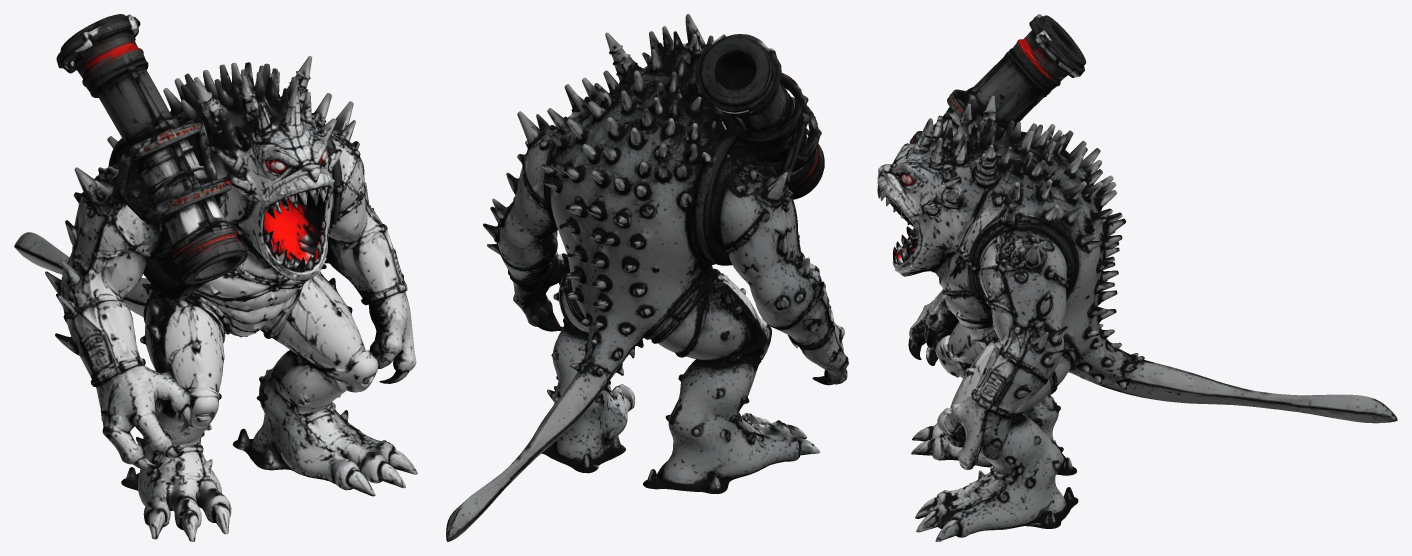
The model's file is lizard-boss.glb.
3 views of the same model, side by side, from view 1: azimuth 30°, elevation 25°; view 2: azimuth 150°, elevation 25°; view 3: azimuth 270°, elevation 25° (orthographic). The views are drawn at different scales.
Visible parts, largest first — view 1: node_0; view 2: node_0; view 3: node_0.
Boxes of the visible parts, x1,y1,x2,y2 form: node_0: (14, 14, 417, 541); node_0: (446, 14, 848, 541); node_0: (877, 14, 1397, 541).
Bounding box in the file's own units: 0.6111 × 0.8107 × 0.9144.
Materials: 1 (1 with a texture image).
